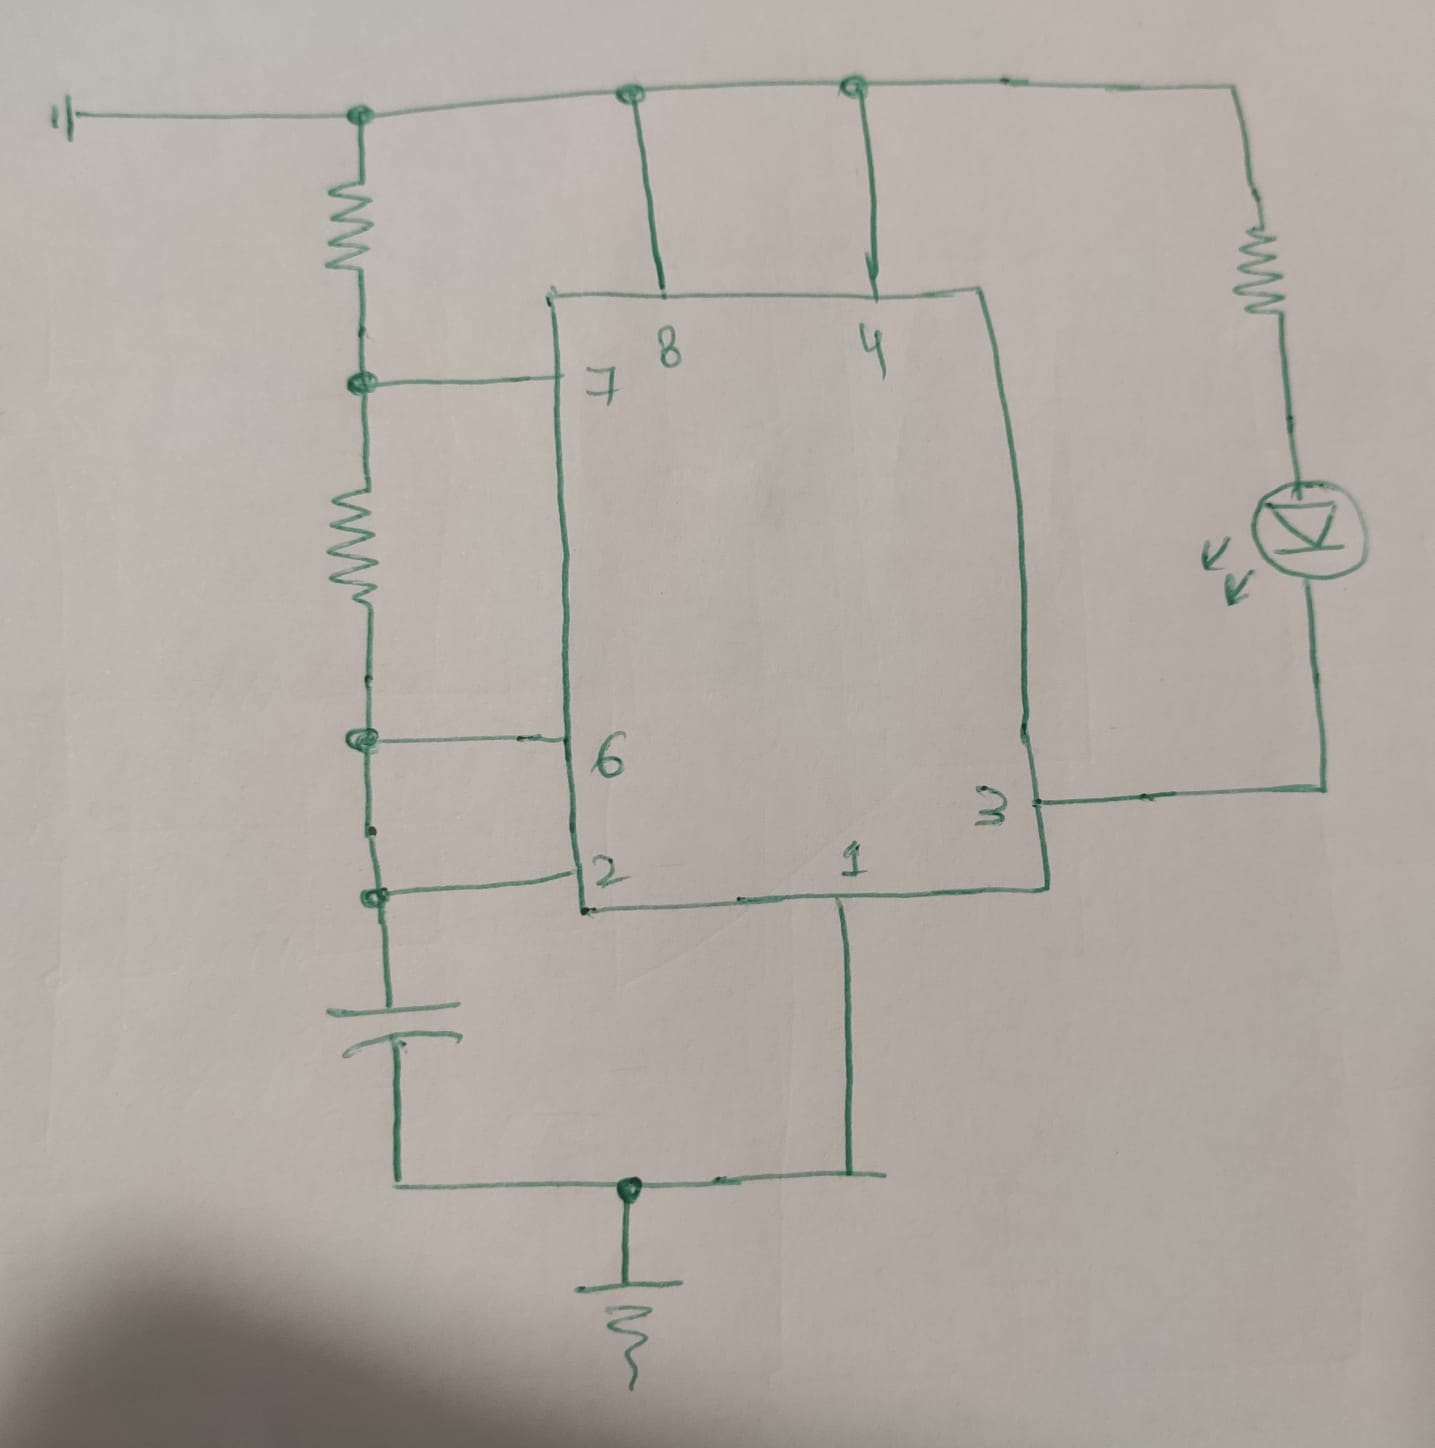capacitor.unpolarized: (325, 991, 467, 1063)
diode.light_emitting: (1195, 474, 1378, 622)
gnd: (565, 1272, 693, 1391)
integrated_circuit: (539, 279, 1064, 918)
junction: (376, 1159, 428, 1208), (836, 63, 879, 110), (1300, 767, 1346, 811), (339, 363, 384, 405), (340, 719, 385, 759), (834, 1155, 877, 1194), (610, 1163, 648, 1206), (339, 97, 378, 137), (1214, 72, 1251, 110), (357, 882, 396, 916), (612, 79, 650, 112)
resistor: (325, 476, 392, 616), (1227, 215, 1300, 328), (319, 170, 382, 286)
text: (853, 311, 899, 374), (650, 323, 691, 374), (972, 781, 1008, 834), (585, 357, 622, 409), (594, 723, 626, 777), (836, 830, 867, 874), (593, 851, 622, 894)
voltage.dc: (35, 85, 85, 148)
